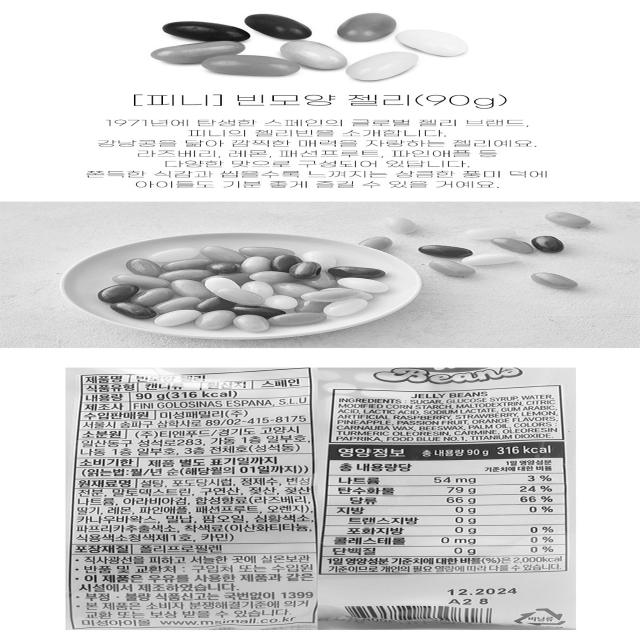Nutrition Label: (307, 439, 585, 578)
